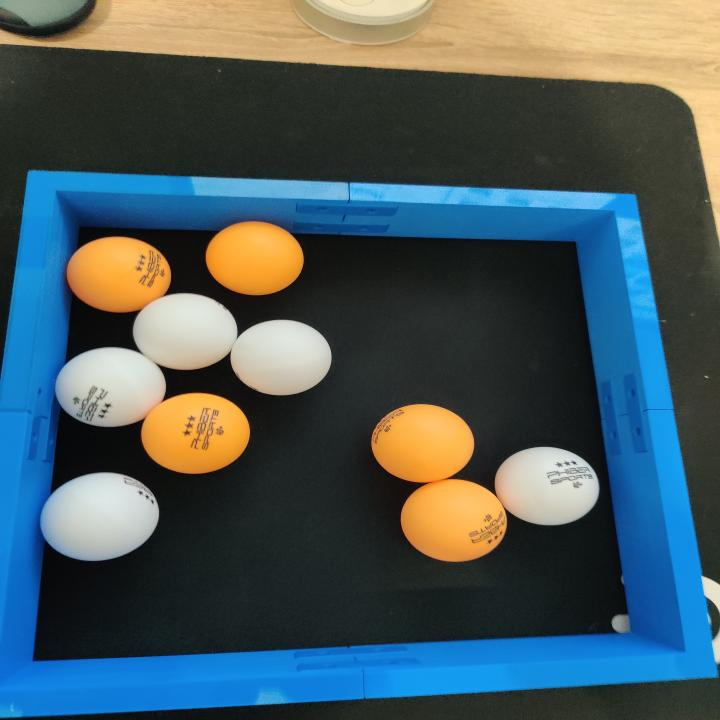orange: (398, 477, 507, 564), (140, 392, 252, 474), (369, 402, 477, 484), (66, 235, 172, 313), (207, 218, 304, 297)
white: (38, 471, 161, 563), (494, 444, 604, 528), (56, 347, 168, 429), (130, 291, 237, 373), (230, 319, 333, 397)
